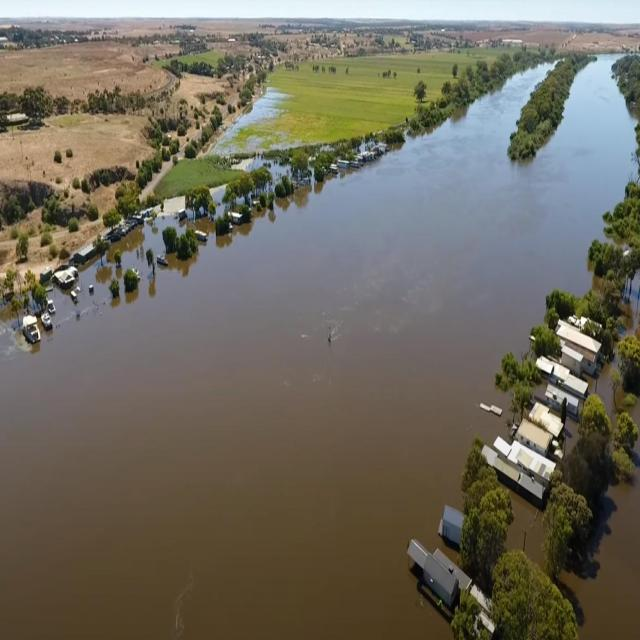flood: (0, 54, 636, 637), (561, 437, 640, 638), (508, 491, 546, 568), (599, 364, 618, 425), (628, 276, 640, 333), (626, 396, 640, 428), (110, 245, 115, 255)
house: (406, 533, 495, 640), (478, 436, 558, 508), (536, 354, 589, 420), (556, 314, 601, 382), (514, 413, 553, 459), (439, 498, 469, 551), (530, 398, 564, 438), (53, 265, 78, 292)
